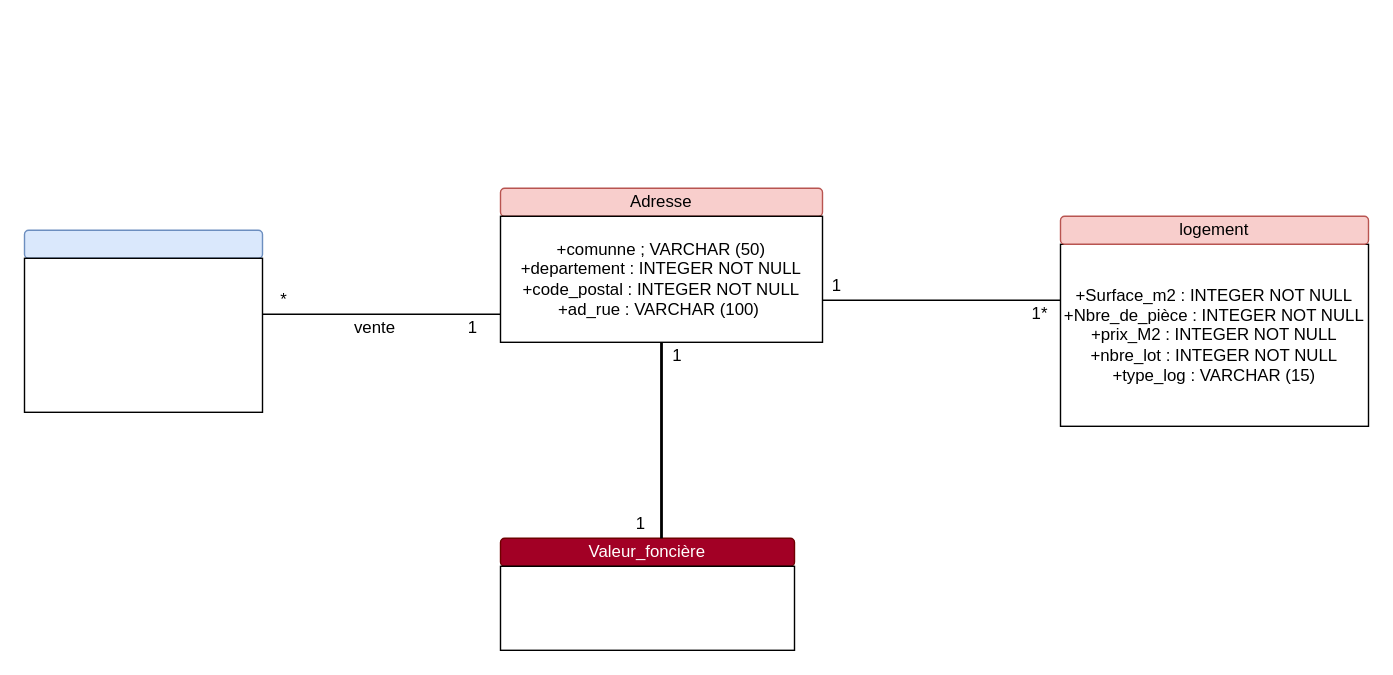
Image size: 1393x675. Some labels were removed from this diagram. Each missing label, with the centre of its shape:
"+DATE: EDATE +NATURE_mut : Varchar (5)" belongs at (x=142, y=334).
"+prix_unit : INTEGER NOT NULL" belongs at (x=646, y=607).
"details_vente" belongs at (x=142, y=243).
